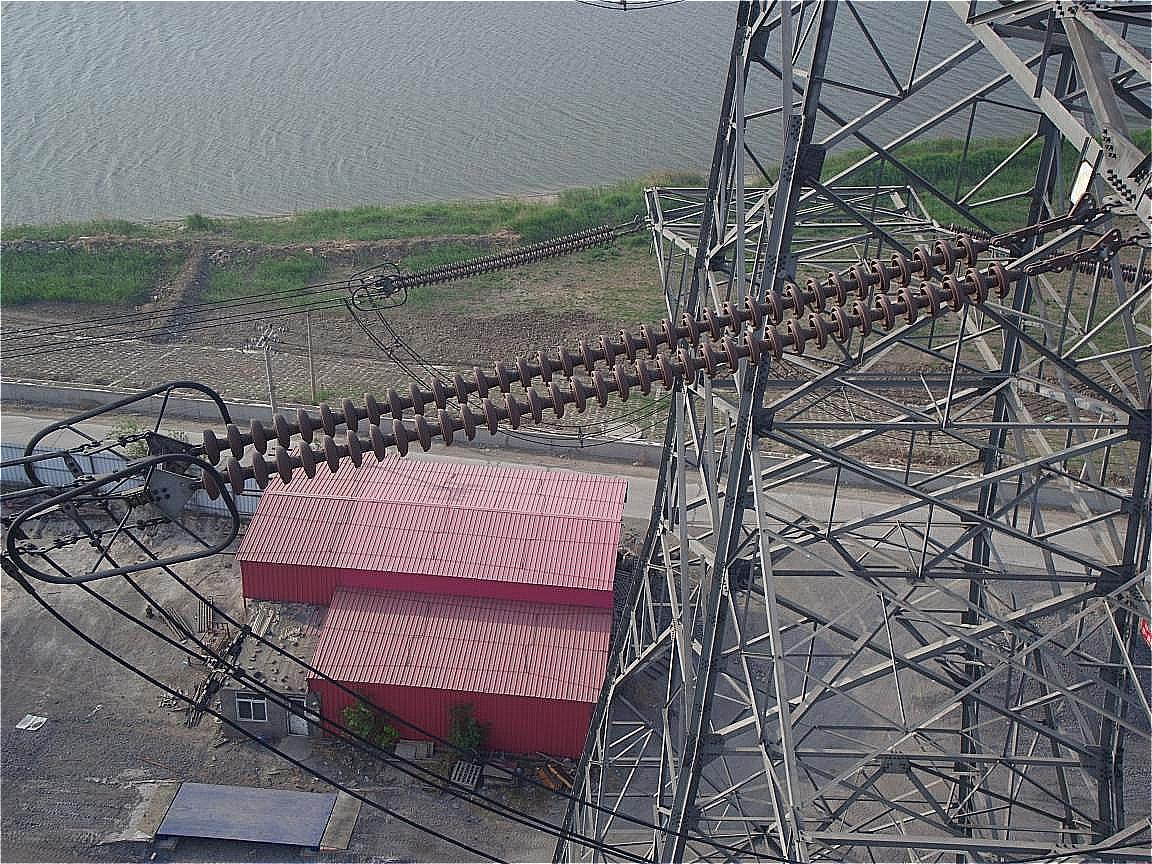insultor1: (195, 234, 1011, 502)
insultor2: (400, 222, 616, 294)
